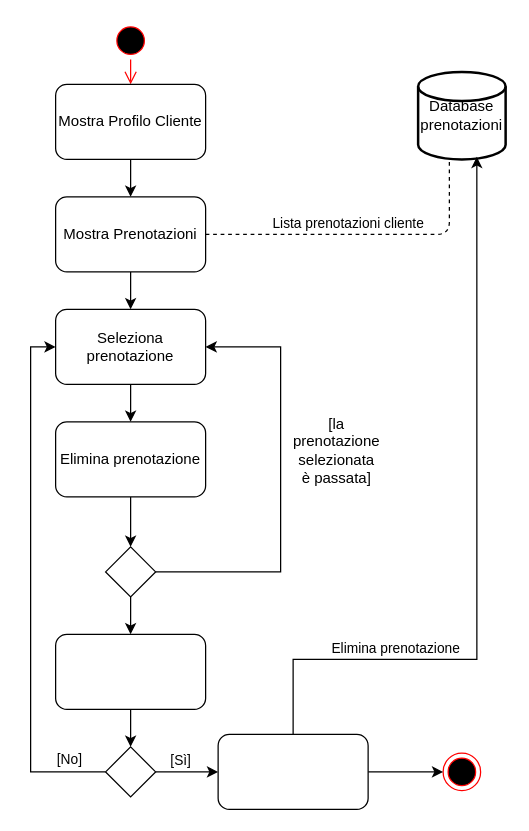
Image size: 529x831. Some labels were removed from this diagram. Here are the shapes that lost their labels. From the top down, the box of each, then its label:
(54, 633, 206, 709): Conferma eliminazione
(217, 733, 368, 809): Eliminazione avvenuta
